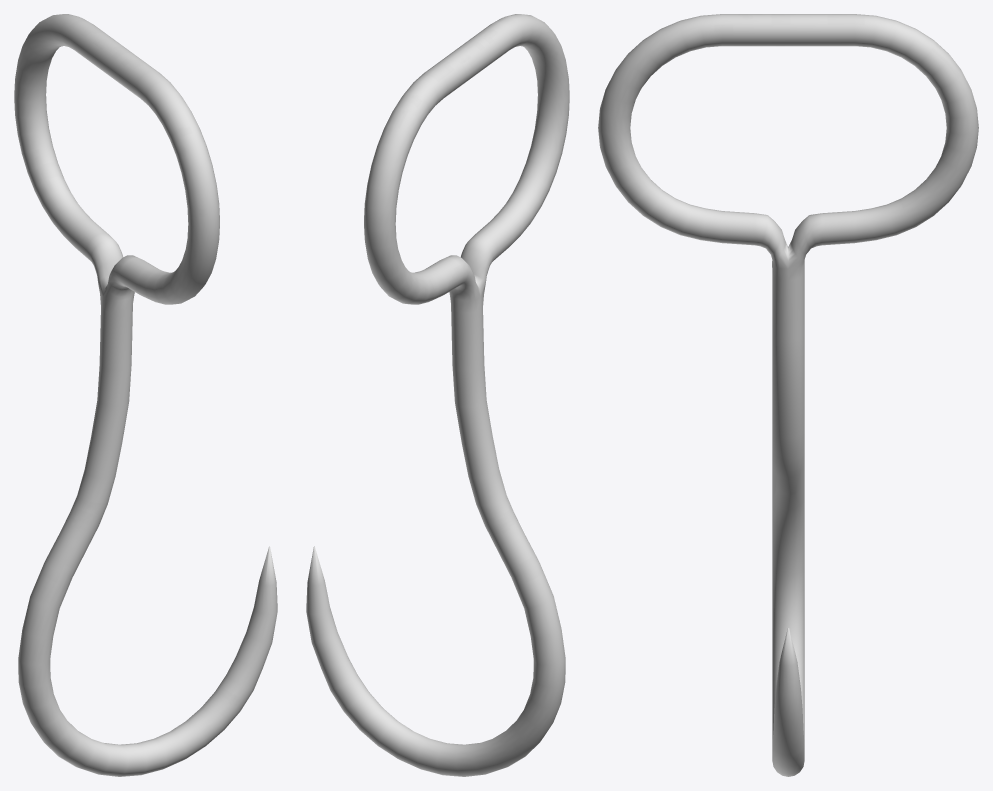
The model's file is meatHook.glb.
3 renders of one model, left to right at view 1: azimuth 30°, elevation 25°; view 2: azimuth 150°, elevation 25°; view 3: azimuth 270°, elevation 25°, orthographic.
Visible parts, largest first — view 1: MeatHook5_MeatHook5_0; view 2: MeatHook5_MeatHook5_0; view 3: MeatHook5_MeatHook5_0.
Part boxes in pixels (x1,y1,x2,y2): MeatHook5_MeatHook5_0: (14,14,277,776); MeatHook5_MeatHook5_0: (306,14,569,776); MeatHook5_MeatHook5_0: (598,14,978,776).
Size of the model in its own units: 0.0768 by 0.2098 by 0.0987.
1 material, 1 textured.
